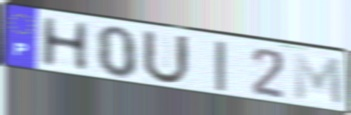0: (91, 24, 141, 80)
2: (250, 48, 286, 101)
H: (39, 15, 91, 72)
I: (212, 39, 228, 93)
M: (292, 51, 346, 108)
U: (141, 27, 193, 87)
